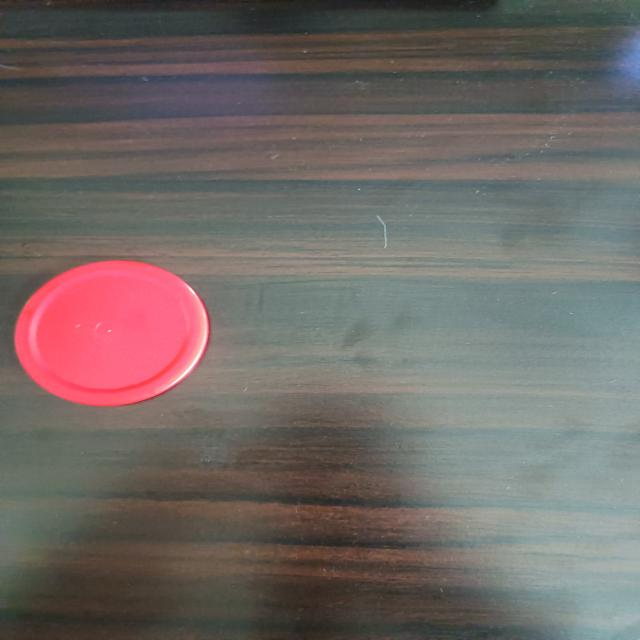chip: (6, 254, 218, 410)
